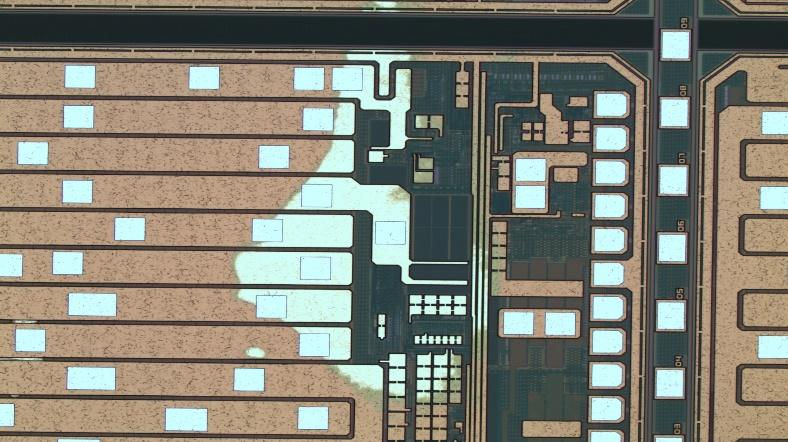BLOCK ETCH: (232, 1, 513, 418)
